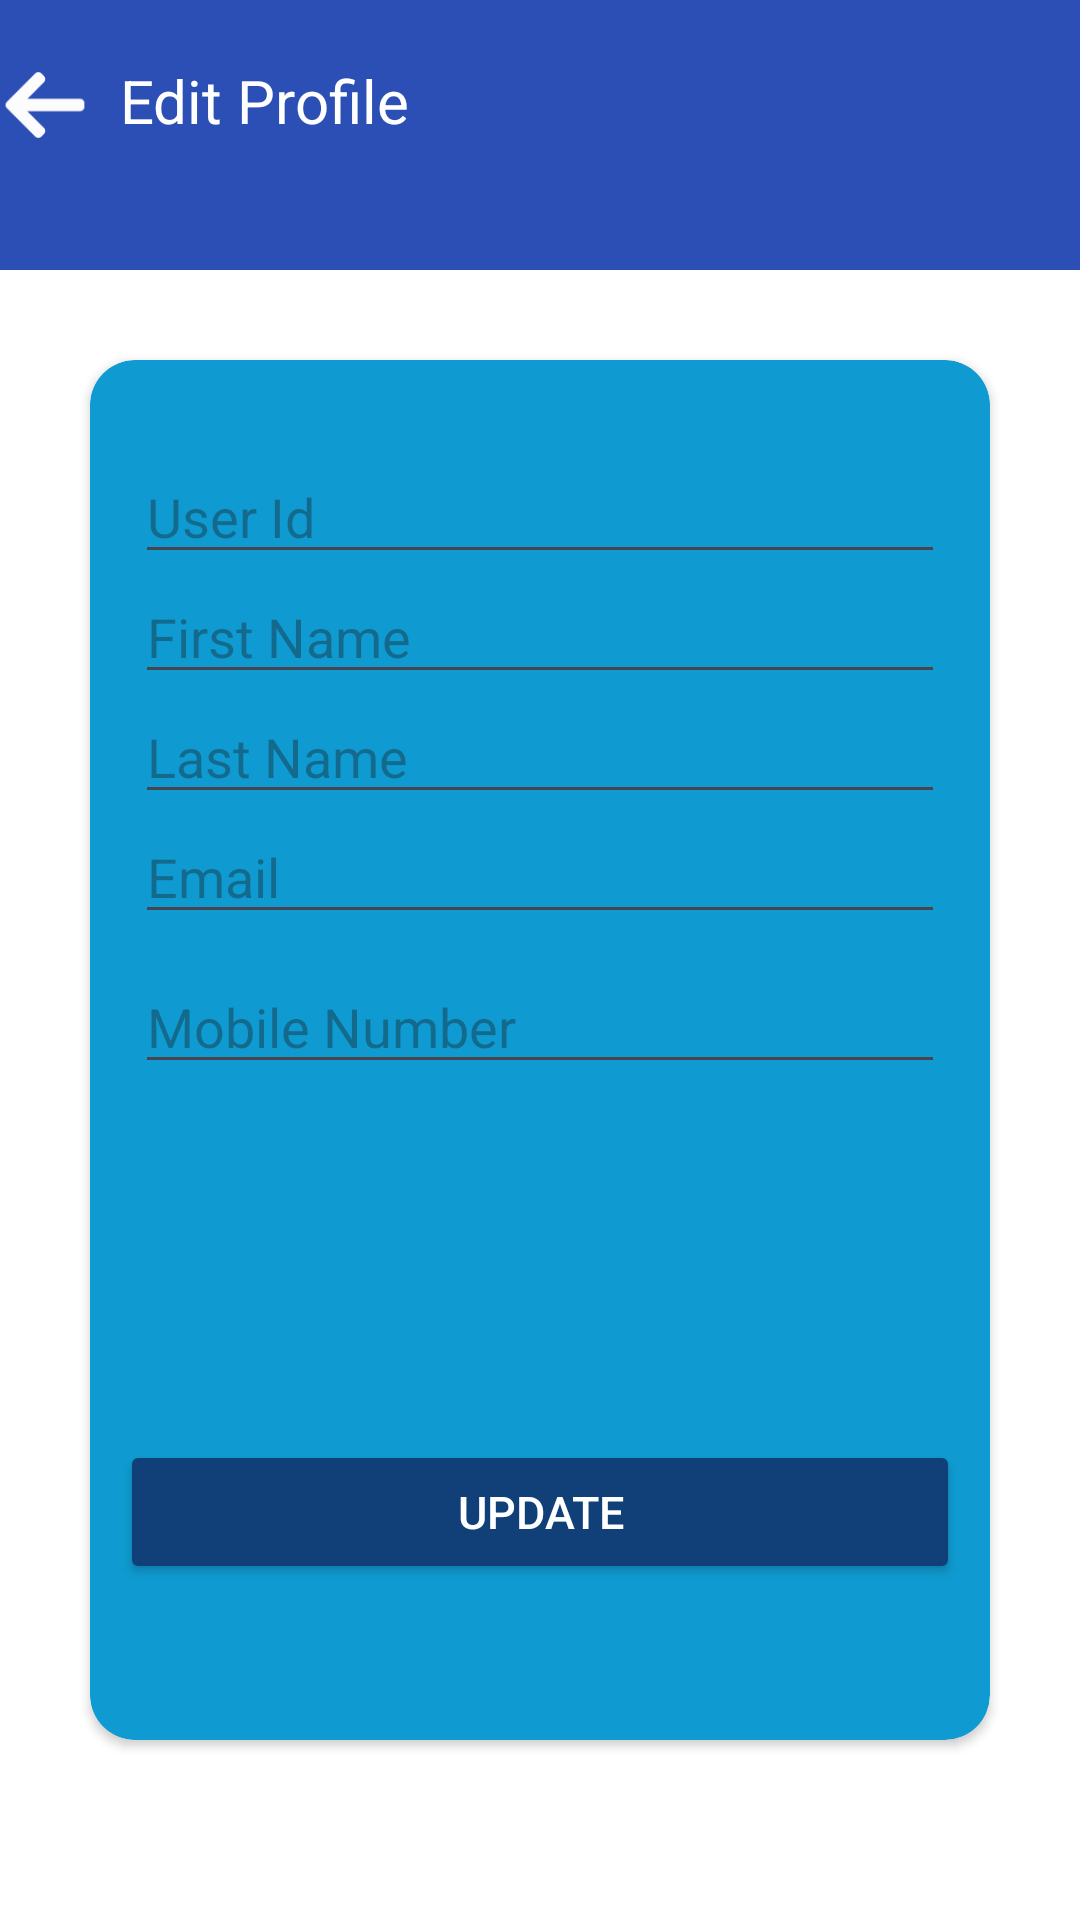

Where icons sit on this 1080×1920 app screen, as (x1=x1, y1=y1, x2=x2, y2=y2):
arrow left: (x1=5, y1=72, x2=85, y2=138)
